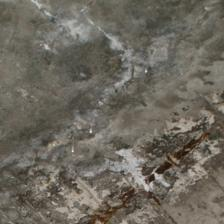Crack: (10, 16, 172, 160)
